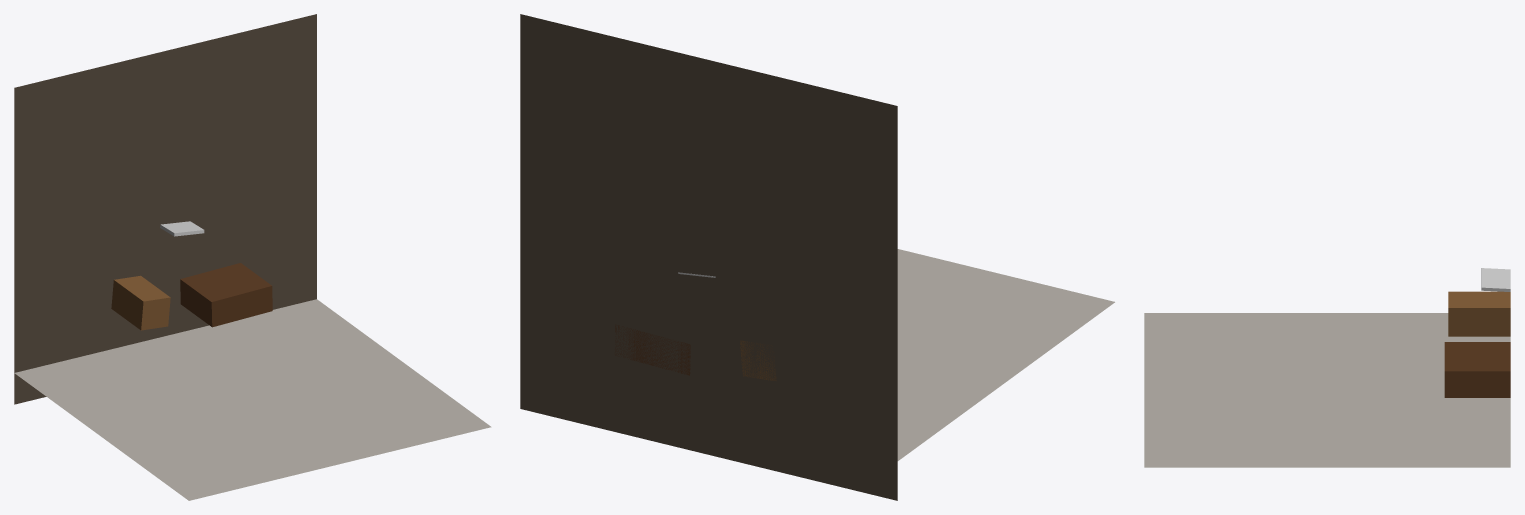
3 renders of one model, left to right at view 1: azimuth 30°, elevation 25°; view 2: azimuth 150°, elevation 25°; view 3: azimuth 270°, elevation 25°, orthographic. The views are drawn at different scales.
Visible parts, largest first — view 1: ground_floor, bg_wall_back, diffuse_cabinet_02, diffuse_chair_01; view 2: ground_floor, bg_wall_back, diffuse_cabinet_02, diffuse_chair_01; view 3: bg_wall_back, diffuse_cabinet_02, diffuse_chair_01, glass_partition_01.
Part boxes in pixels (x1,y1,x2,y2): ground_floor: [14, 14, 316, 404]; bg_wall_back: [14, 299, 491, 500]; diffuse_cabinet_02: [180, 263, 272, 327]; diffuse_chair_01: [111, 275, 170, 330]; ground_floor: [520, 14, 897, 500]; bg_wall_back: [897, 249, 1114, 460]; diffuse_cabinet_02: [615, 324, 690, 375]; diffuse_chair_01: [740, 340, 776, 380]; bg_wall_back: [1144, 313, 1510, 467]; diffuse_cabinet_02: [1444, 342, 1510, 397]; diffuse_chair_01: [1448, 291, 1510, 336]; glass_partition_01: [1481, 268, 1510, 291].
Size of the model in its own units: 0.5 by 0.5 by 0.5001.
